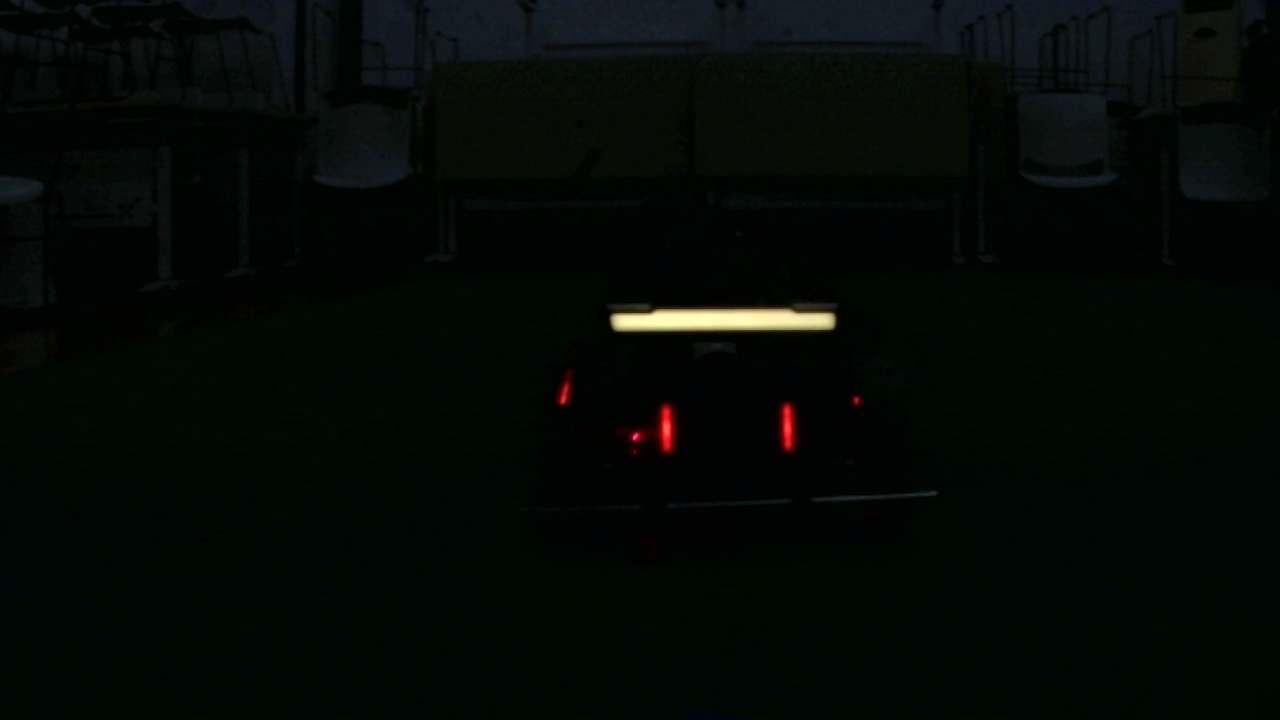lamp: (776, 394, 799, 455), (654, 399, 675, 457)
pair1: (657, 400, 799, 451)
